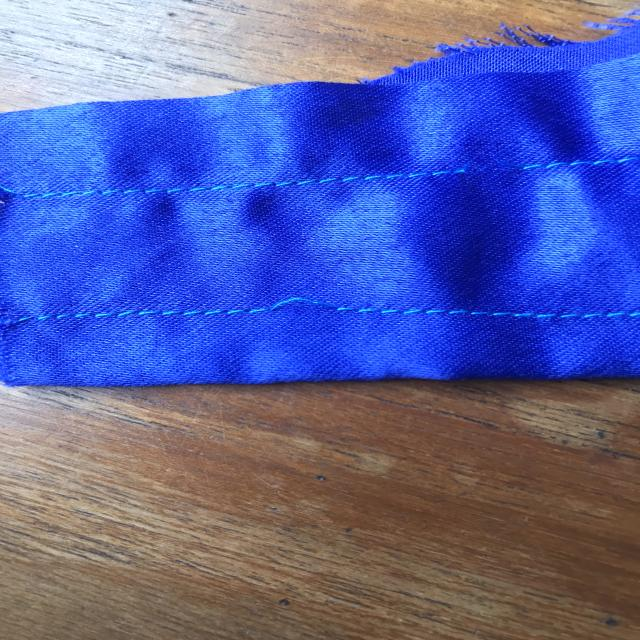broken: (426, 144, 533, 197)
good: (417, 294, 530, 334)
skip: (240, 274, 358, 333)
